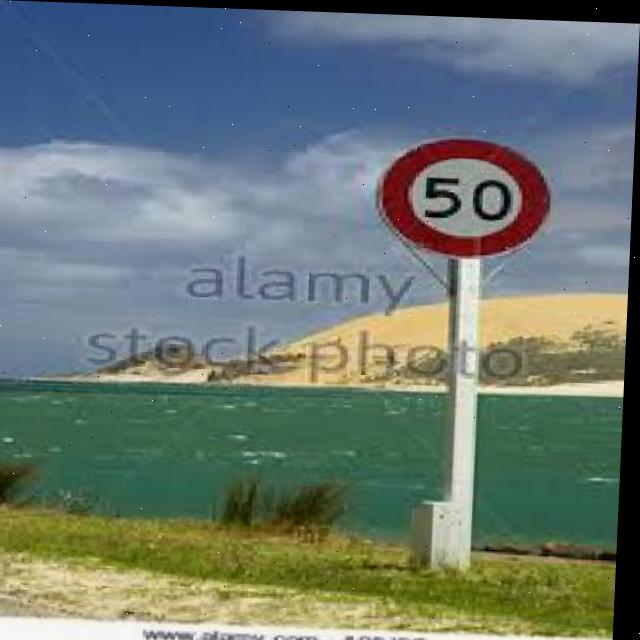Speed limit 50: (373, 127, 559, 260)
